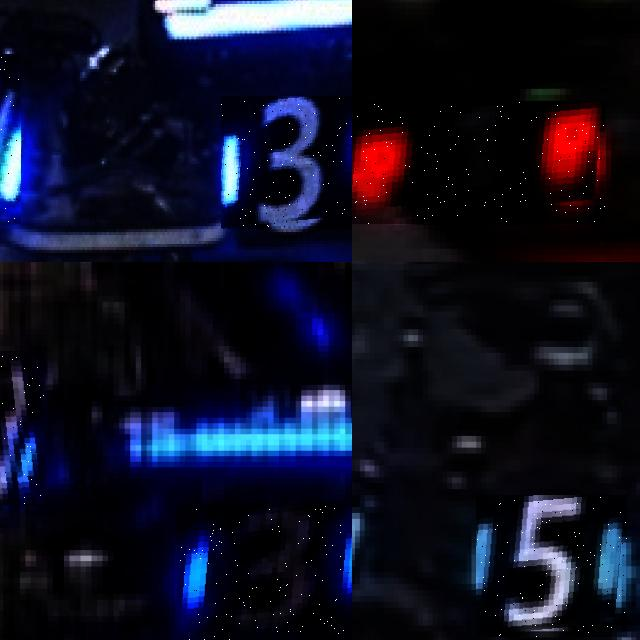B3: (177, 503, 352, 640), (220, 95, 352, 229), (0, 351, 44, 505)
B4: (0, 54, 21, 226)
B5: (476, 495, 627, 637)
R1: (352, 101, 605, 224)
